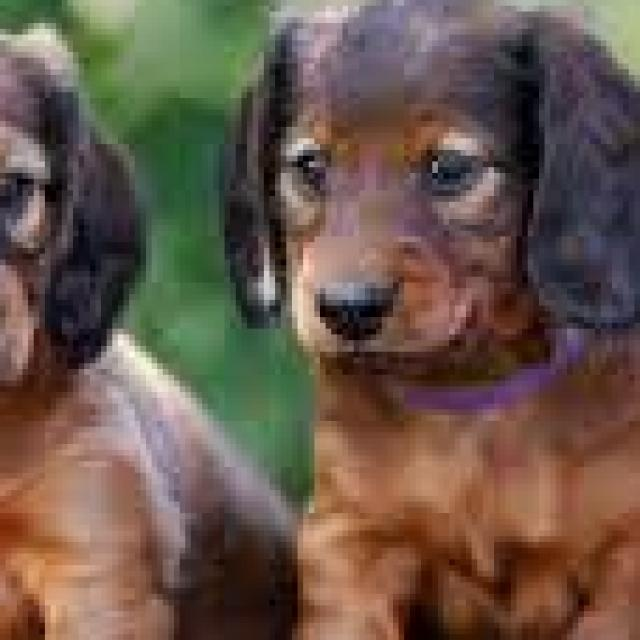dog: (207, 0, 640, 640), (0, 0, 342, 640)
